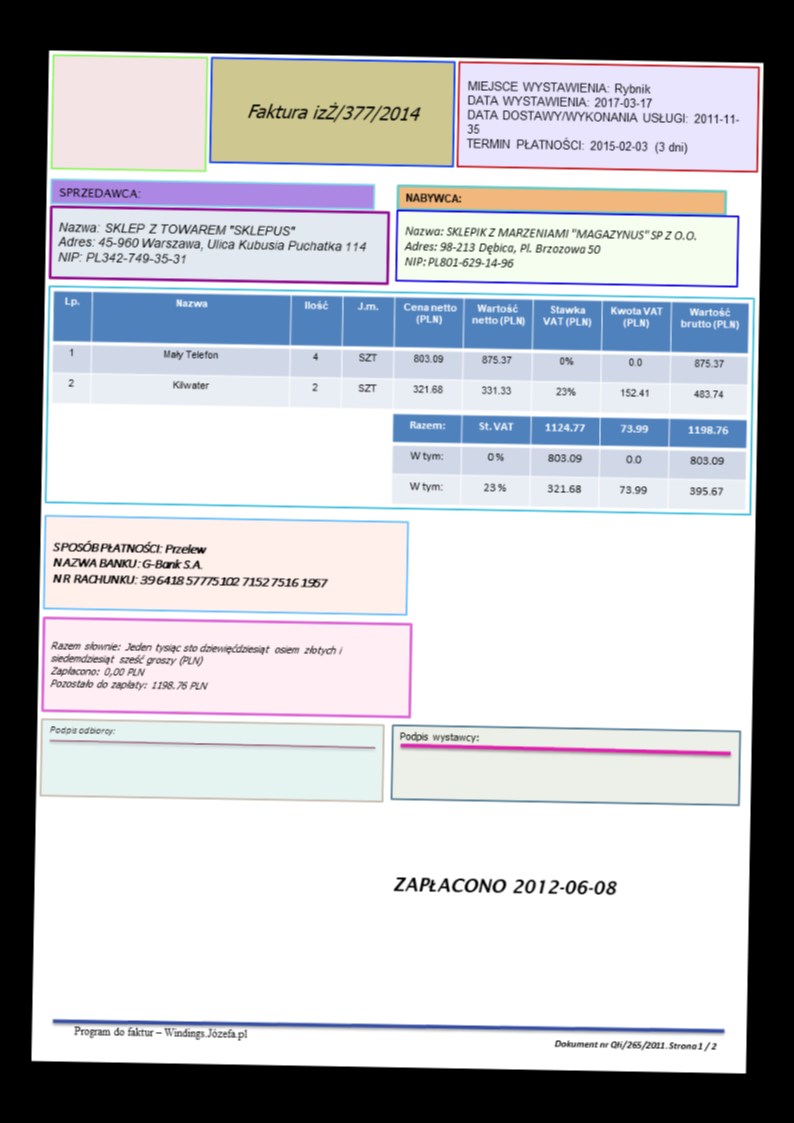Table: (50, 288, 750, 417), (388, 411, 749, 511)
TextBox: (464, 75, 743, 158), (48, 637, 348, 695), (55, 218, 368, 272), (401, 221, 699, 275), (49, 536, 330, 593), (391, 872, 617, 899), (243, 98, 424, 126), (71, 1020, 248, 1043), (551, 1034, 719, 1054), (54, 182, 142, 200), (396, 728, 480, 745), (46, 720, 116, 738), (401, 187, 462, 207)
